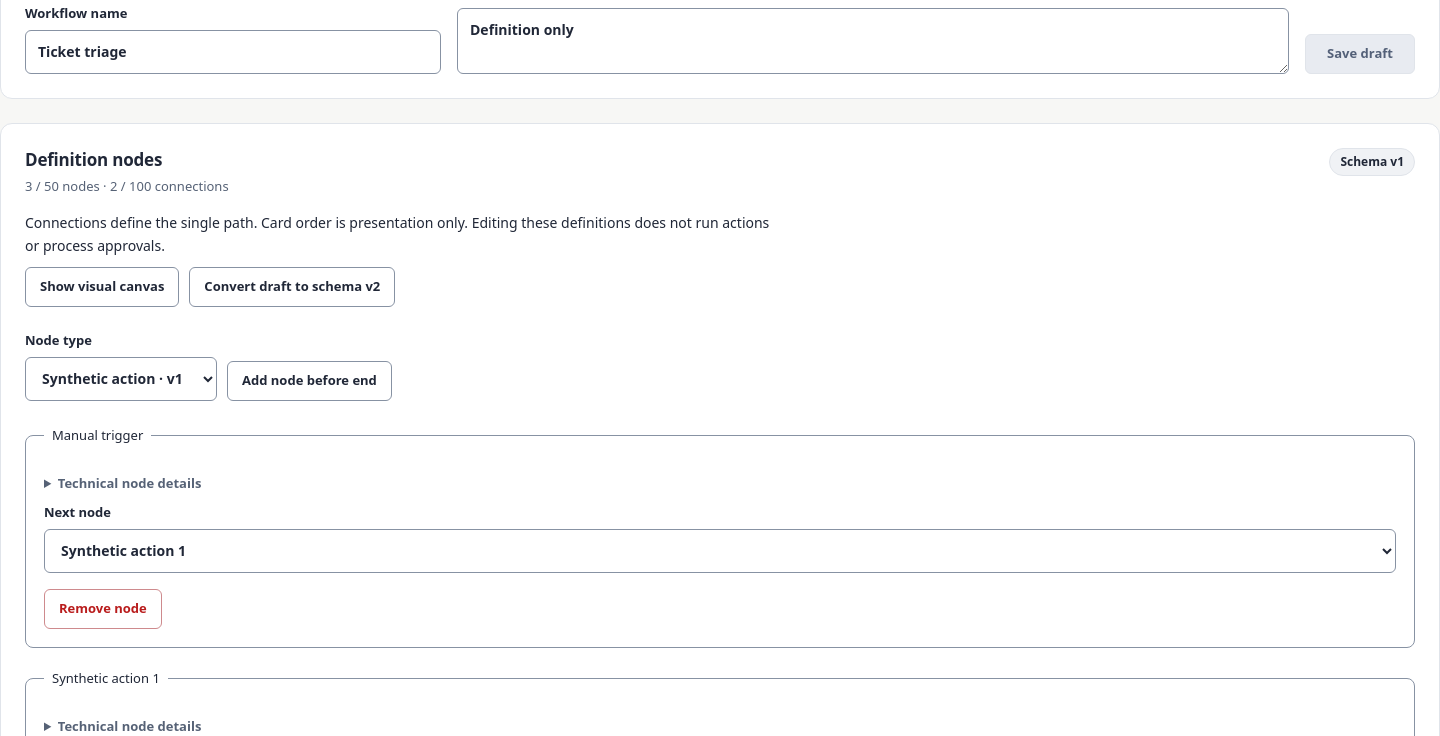
Test: adds and removes a configured node through the accessible palette controls
(page scrolled)
Select "Approval gate · v1" in the dropdown labelled "Node type" at (121, 379), box [25,357,217,401]
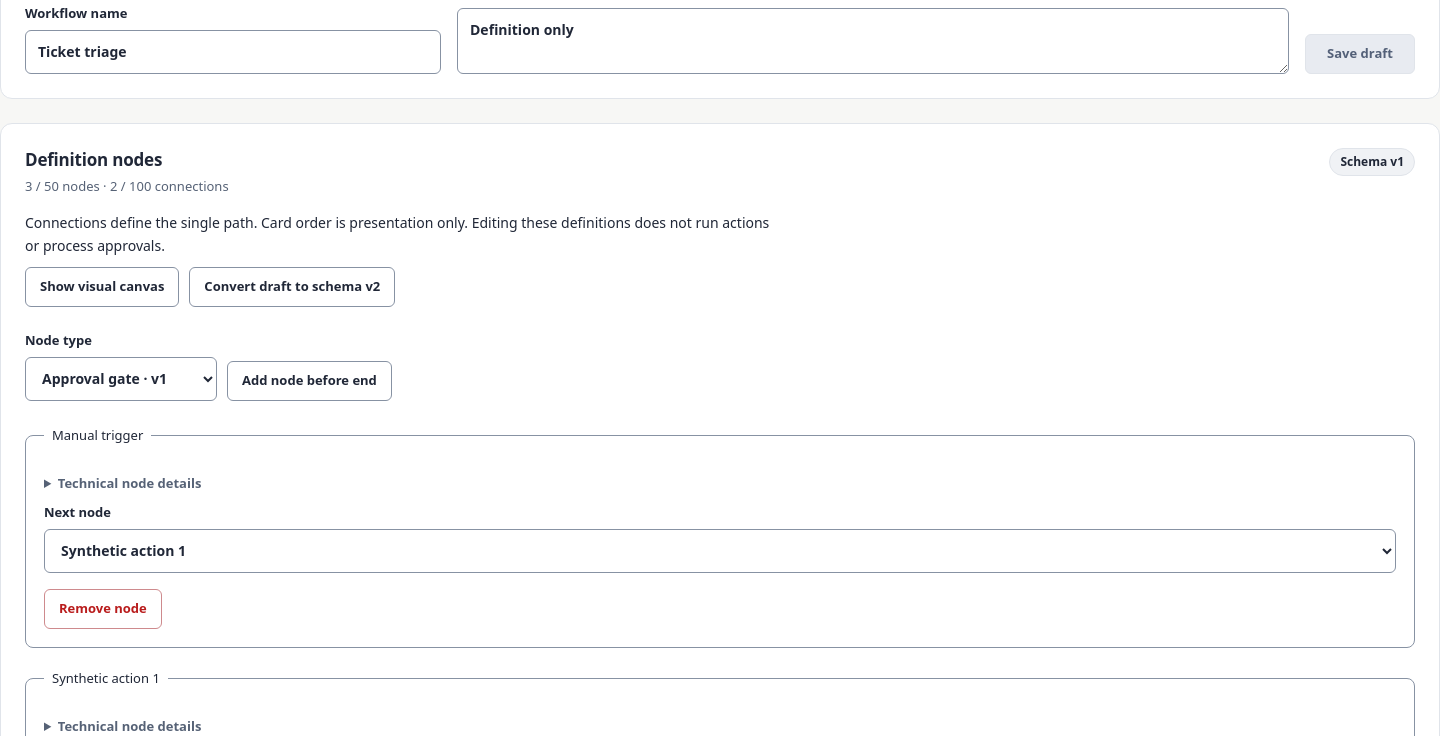
Click the button "Add node before end" at (309, 381), box [227,361,392,401]
(page scrolled)
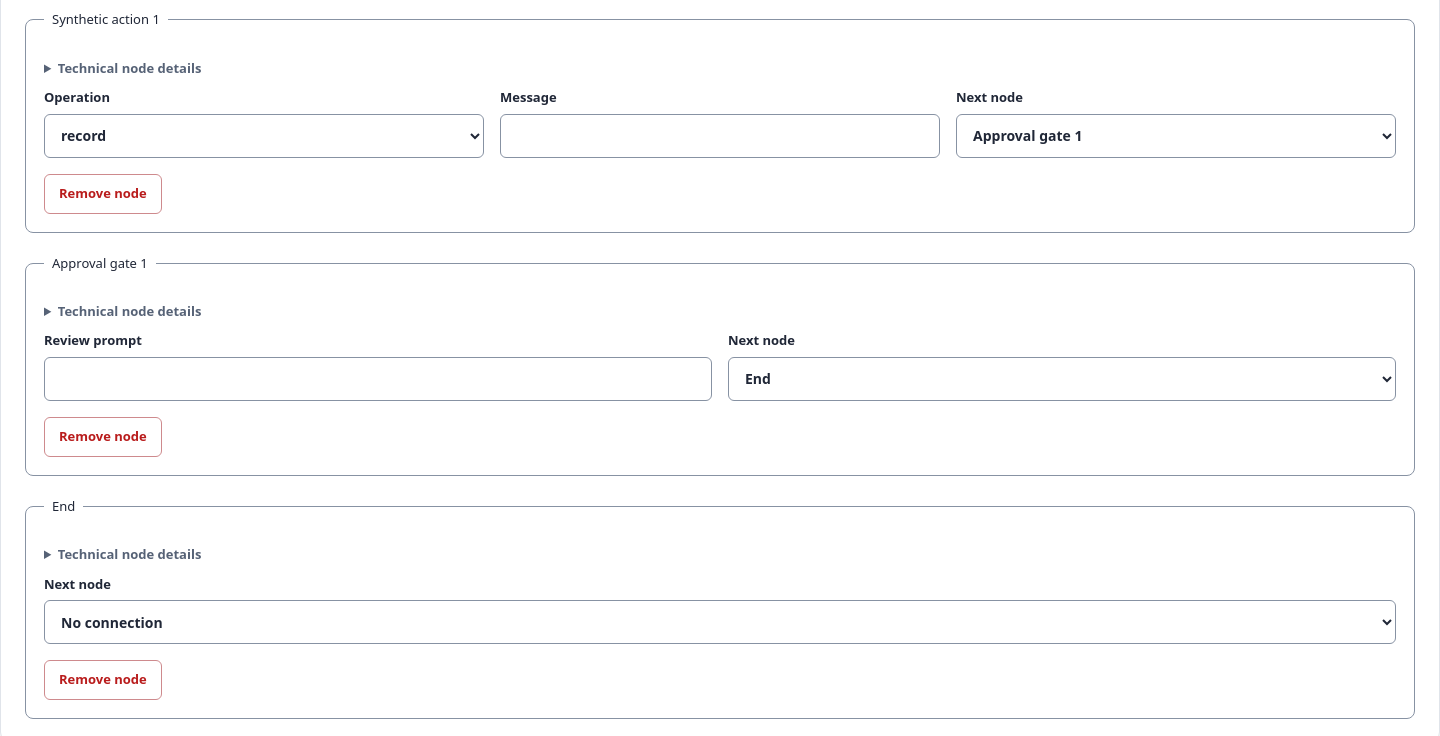
Type "Review the plan" into the field labelled "Review prompt" at (378, 379), box [44,357,712,401]
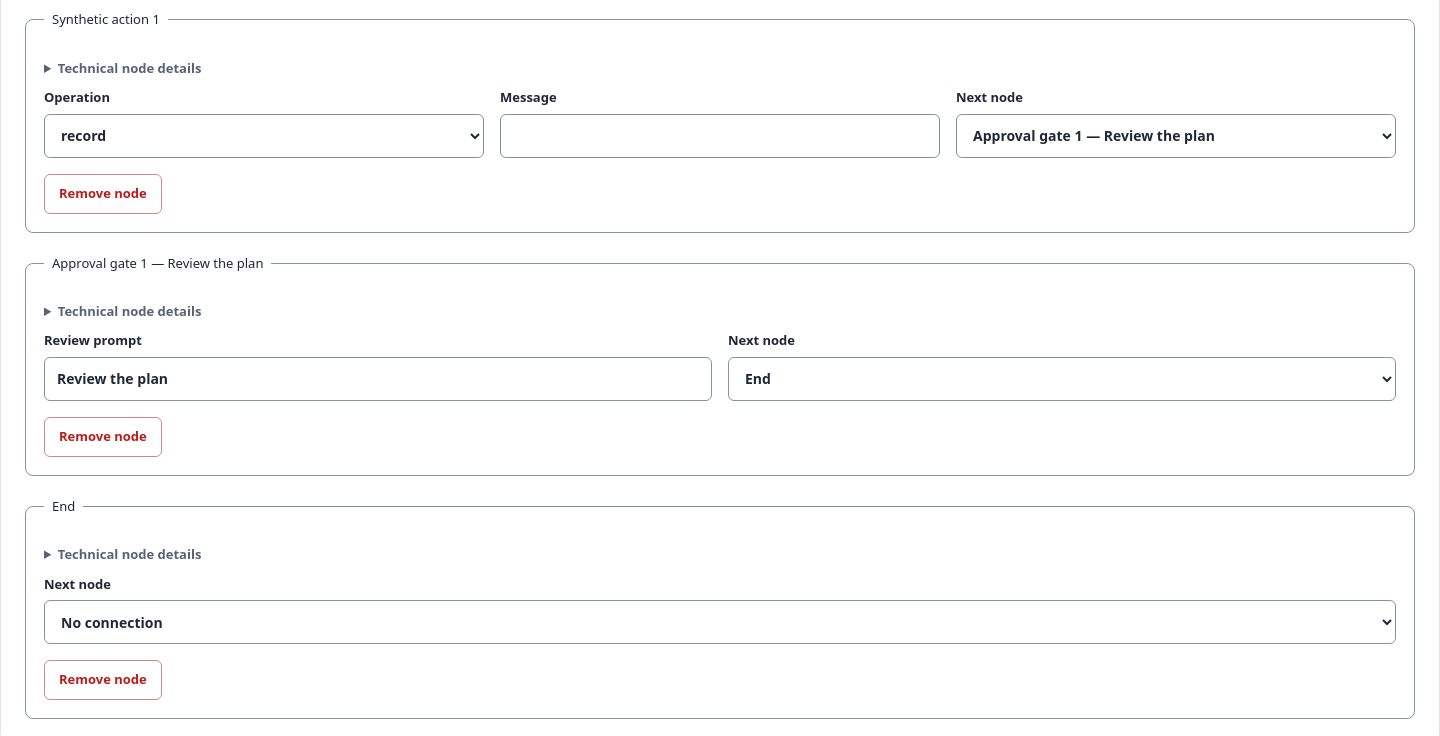
Click the button "Remove node" below "Review prompt" at (103, 437), box [44,417,162,457]
(page scrolled)
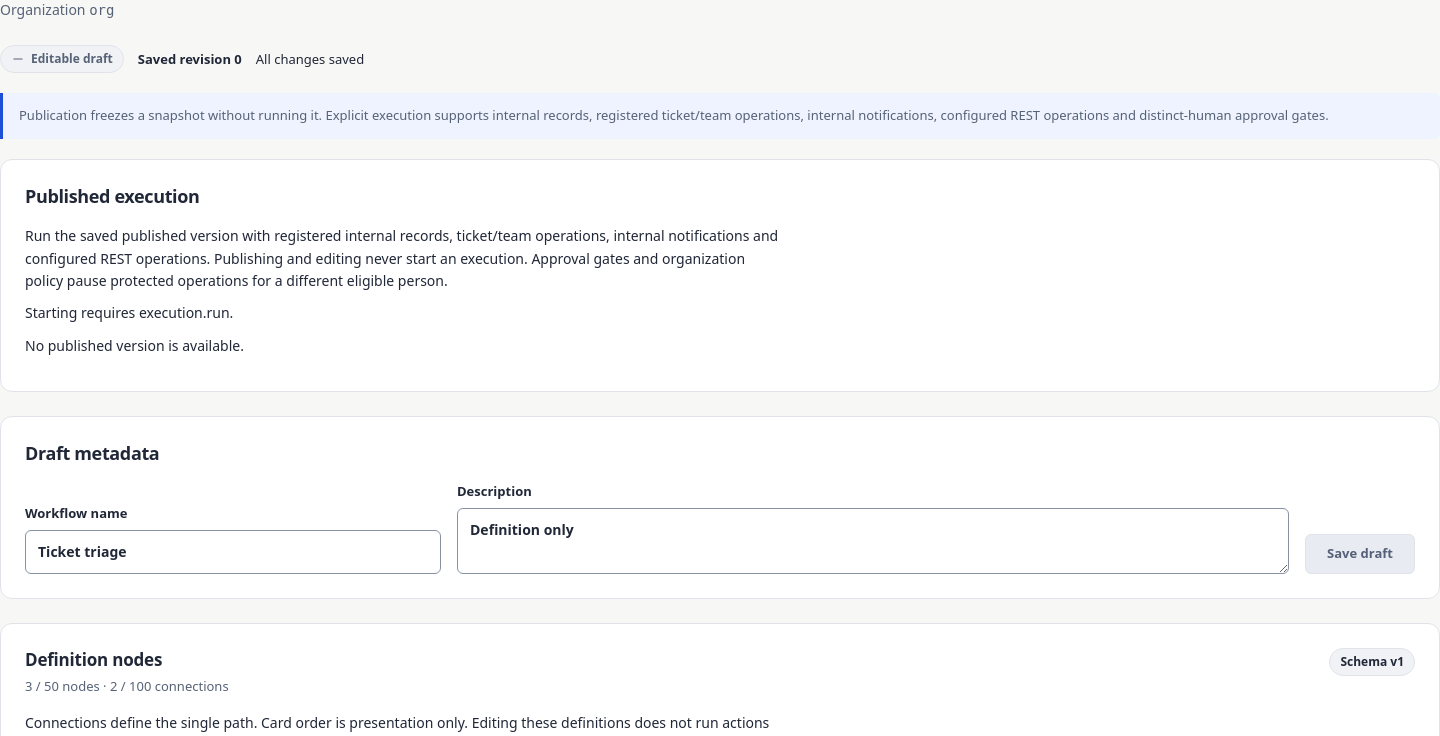
Check: the label labelled "Review prompt" is gone
Check: the text "All changes saved" is shown, box [256,49,364,70]
